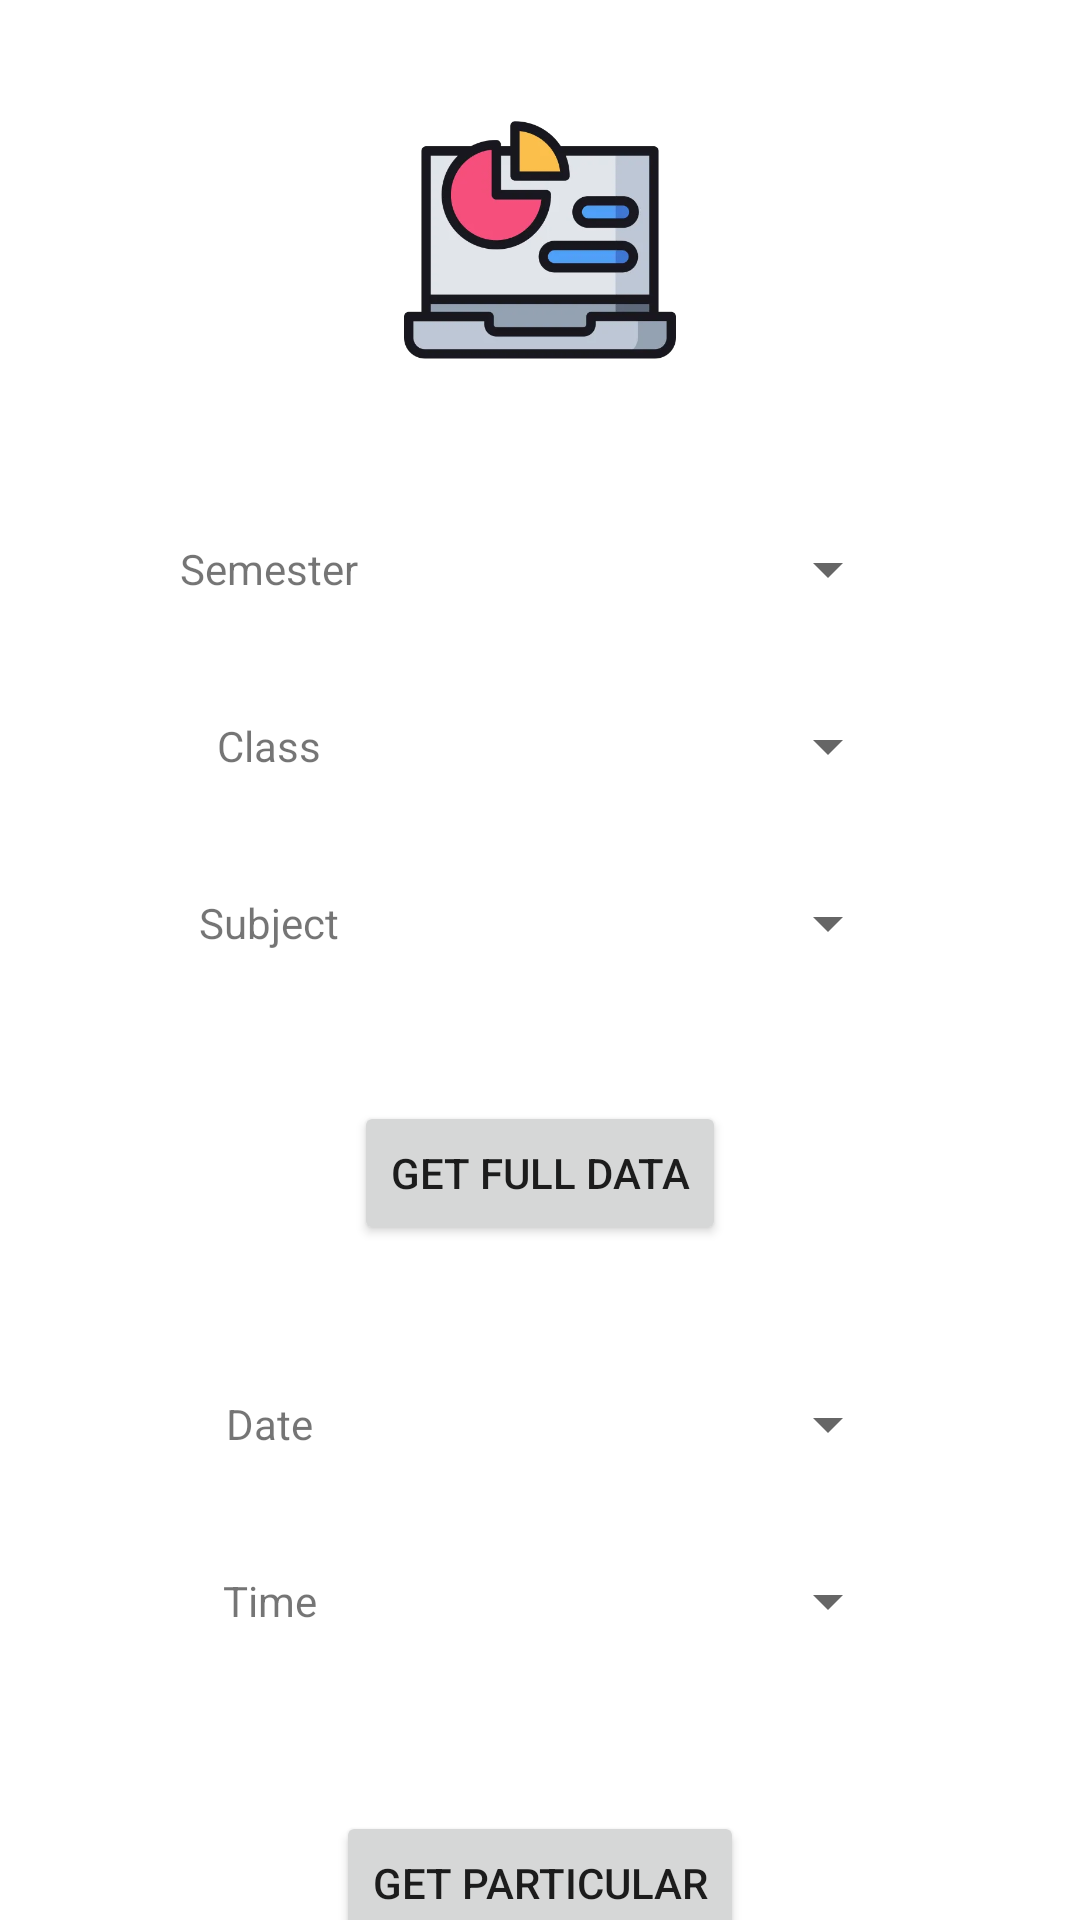

Icon bounding boxes for this 1080x1920 phone screenshot, format (x1, y1, x2, y2):
data: (404, 121, 676, 359)
